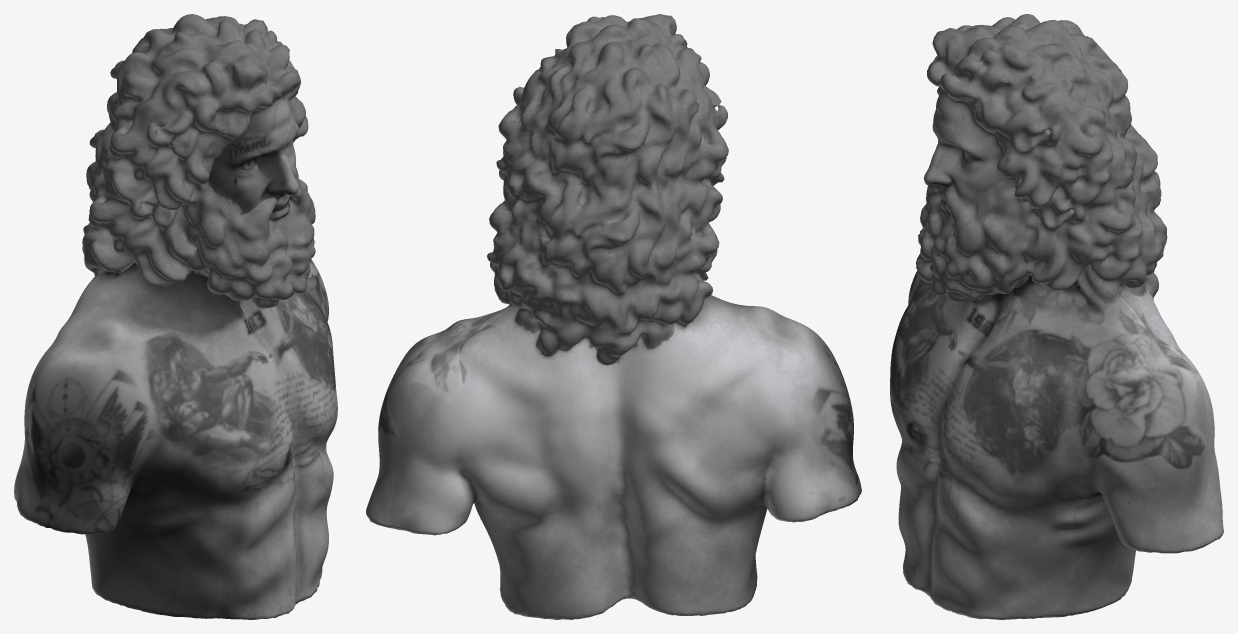
File: god-zeus.gltf
The picture shows the model from 3 angles, left to right: view 1: azimuth 30°, elevation 25°; view 2: azimuth 150°, elevation 25°; view 3: azimuth 270°, elevation 25°; orthographic projection.
Parts seen in each view (by area): view 1: Body; view 2: Body; view 3: Body.
Boxes of the visible parts, x1,y1,x2,y2 form: Body: [14, 14, 337, 619]; Body: [366, 14, 861, 619]; Body: [890, 14, 1223, 619].
Bounding box in the file's own units: 12.3 × 17.37 × 9.46.
1 material, 1 textured.
